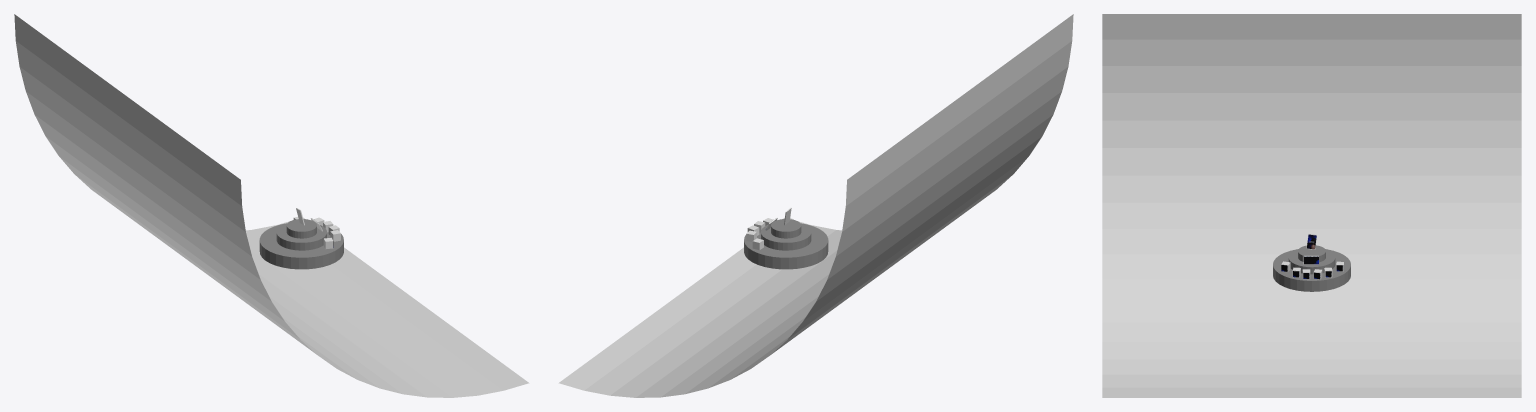
File: NewWebPage-gITFBinary.glb
3 renders of one model, left to right at view 1: azimuth 30°, elevation 25°; view 2: azimuth 150°, elevation 25°; view 3: azimuth 270°, elevation 25°, orthographic. The views are drawn at different scales.
Parts seen in each view (by area): view 1: Cyclorama, Stand.Base, Stand.Mid, Stand.Top; view 2: Cyclorama, Stand.Base, Stand.Mid, Stand.Top; view 3: Cyclorama, Stand.Base, Stand.Mid.
Boxes of the visible parts, bbox=[...] form: Cyclorama: bbox=[14, 14, 529, 397]; Stand.Base: bbox=[259, 223, 343, 269]; Stand.Mid: bbox=[276, 223, 326, 250]; Stand.Top: bbox=[286, 219, 316, 238]; Cyclorama: bbox=[558, 14, 1073, 397]; Stand.Base: bbox=[744, 223, 828, 269]; Stand.Mid: bbox=[761, 223, 811, 250]; Stand.Top: bbox=[771, 219, 801, 238]; Cyclorama: bbox=[1102, 14, 1521, 397]; Stand.Base: bbox=[1273, 249, 1350, 291]; Stand.Mid: bbox=[1288, 249, 1335, 274].
Size of the model in its own units: 27.54 by 25.08 by 37.43.
8 materials, 6 textured.
